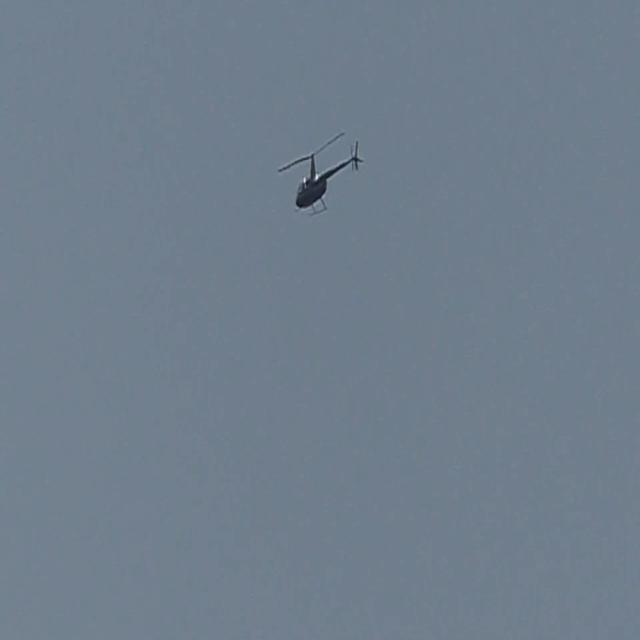CIV_HELO: (294, 138, 366, 218)
